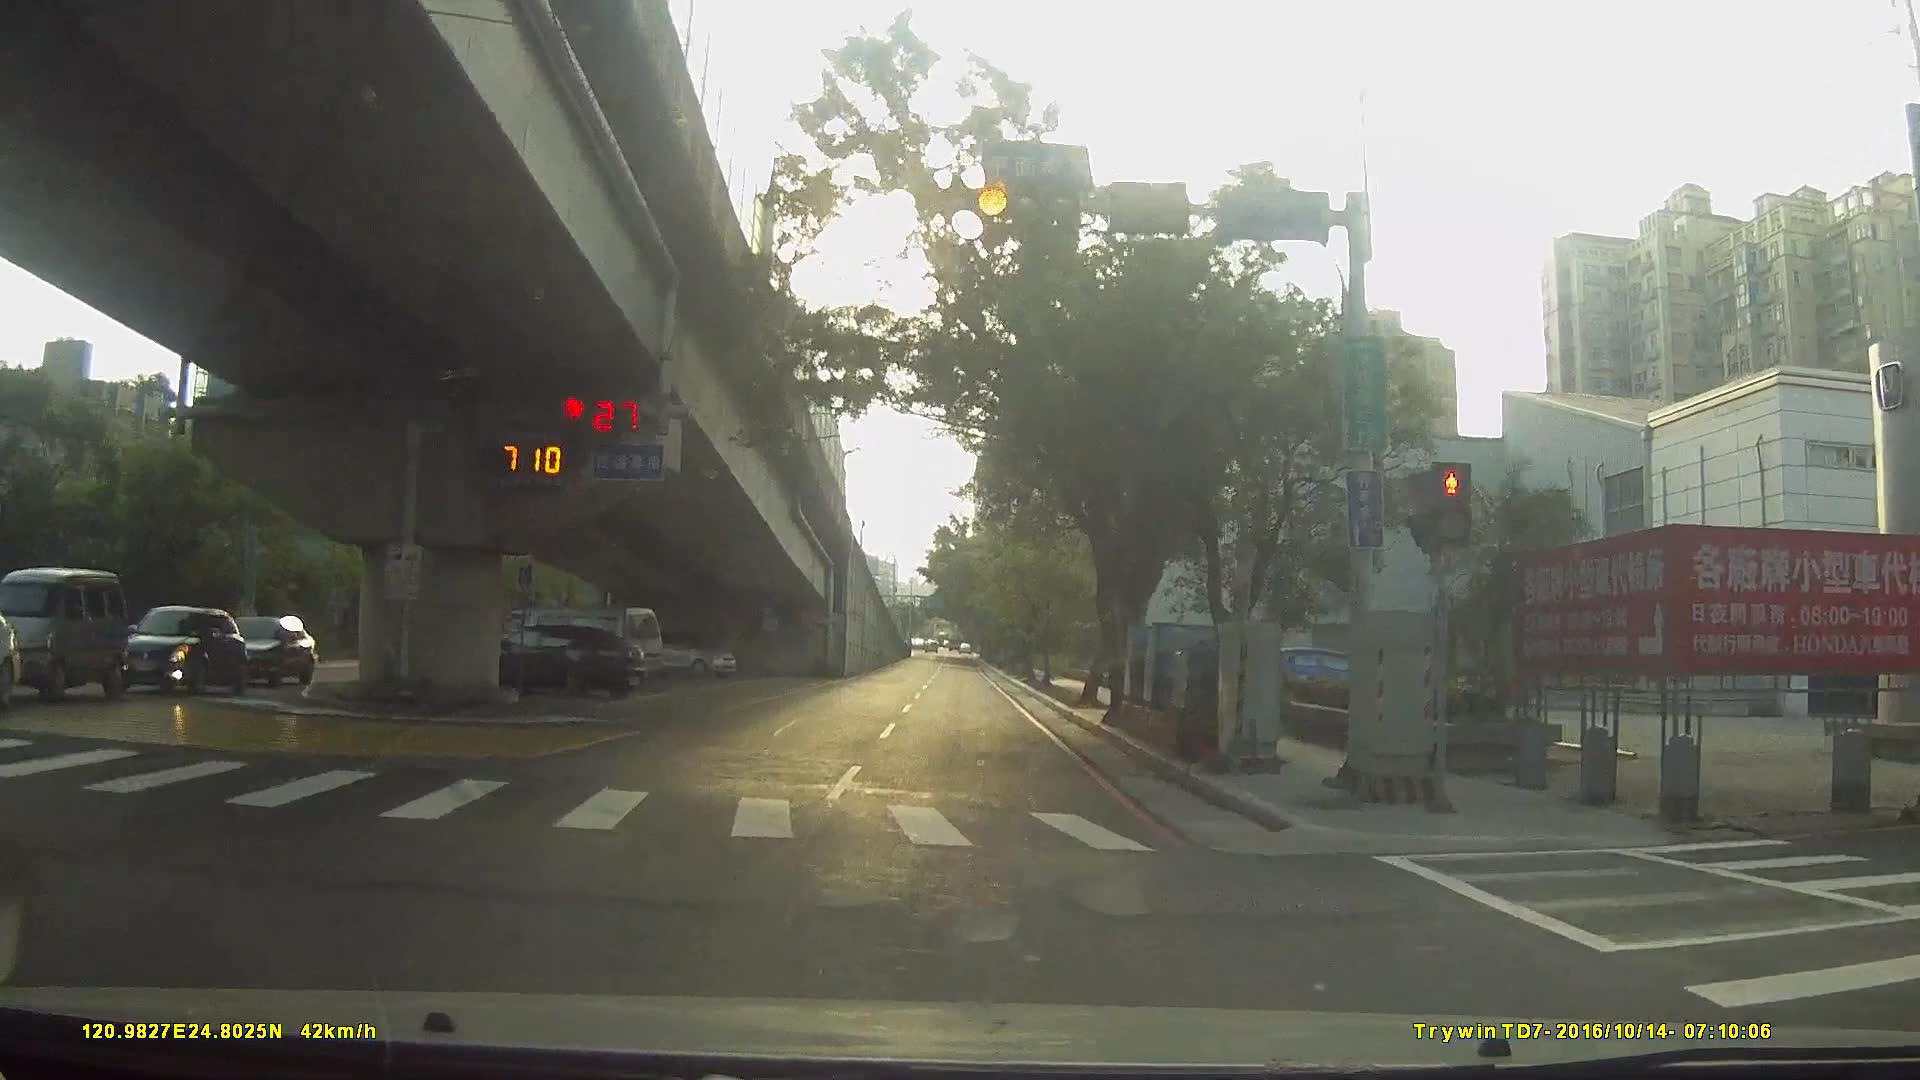vehicle: (1, 556, 141, 699), (483, 604, 661, 688), (458, 618, 642, 699), (103, 599, 241, 696), (200, 607, 324, 680), (632, 632, 736, 678), (1, 589, 30, 705)
